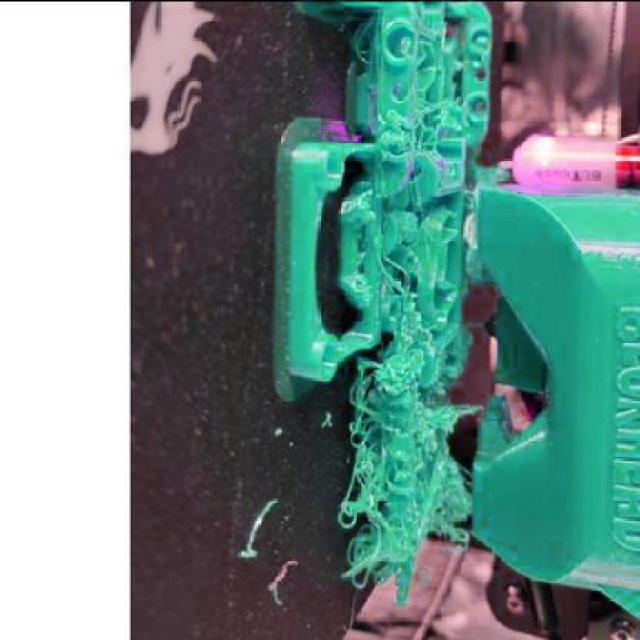Spaghetti: (340, 233, 485, 607), (379, 93, 461, 172)
